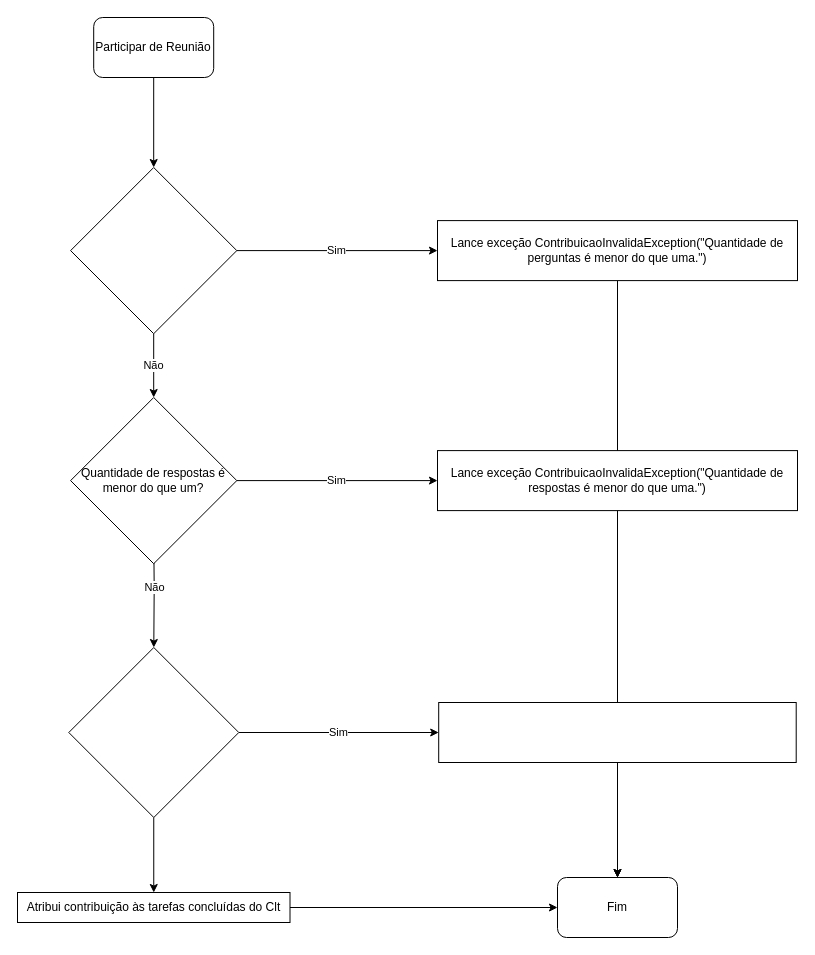
This 815x955 diagram has some shape labels left out. The box of each missing label's shape, as (x1, y1, x2, y2) in pixels:
Lance exceção ContribuicaoInvalidaException("Pontuação é menor do que cinco. "): (438, 702, 796, 762)
Pontuação é menor do que cinco?: (68, 646, 239, 818)
Quantidade de perguntas é menor do que um?: (70, 166, 237, 334)
